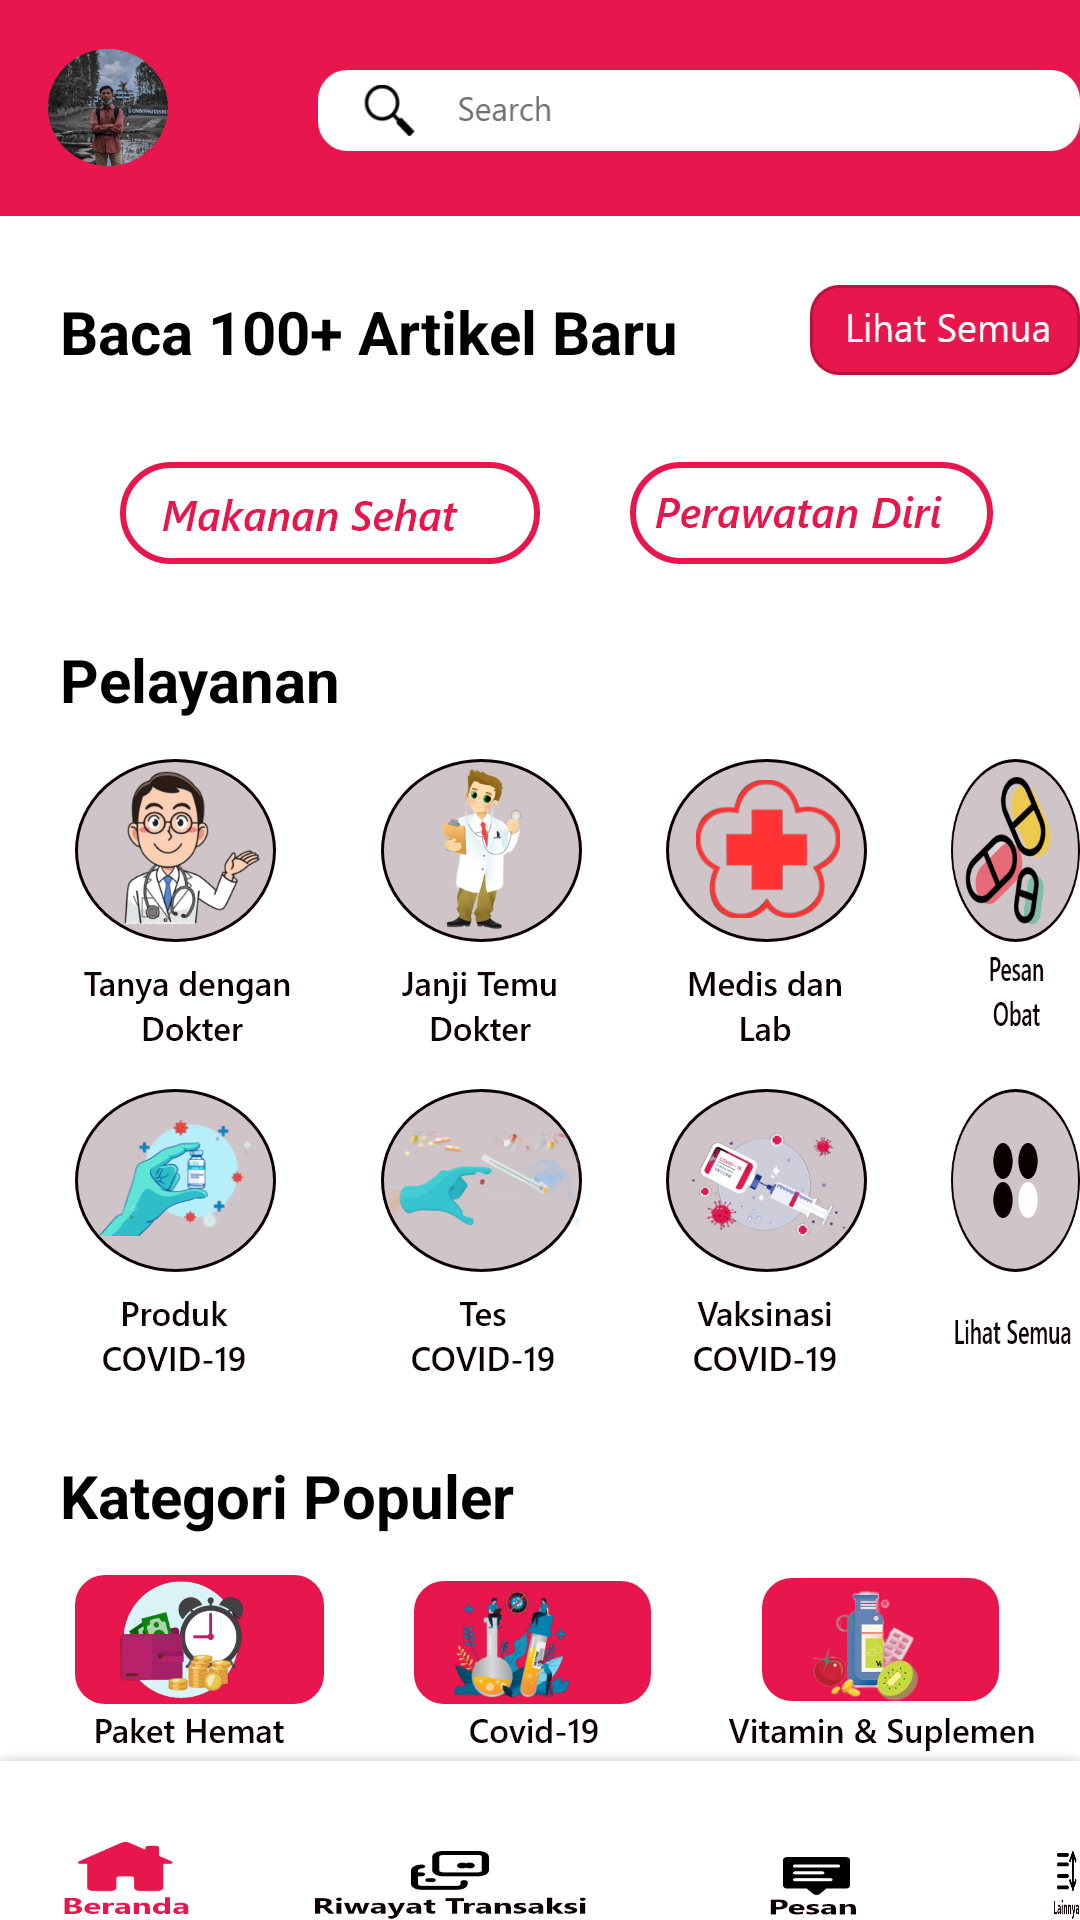

Screen size 1080px x 1920px. Icon name, then its box in pixels as [left=x1, top=y1, right=x2, bottom=y2]:
profil: [left=48, top=49, right=168, bottom=166]
